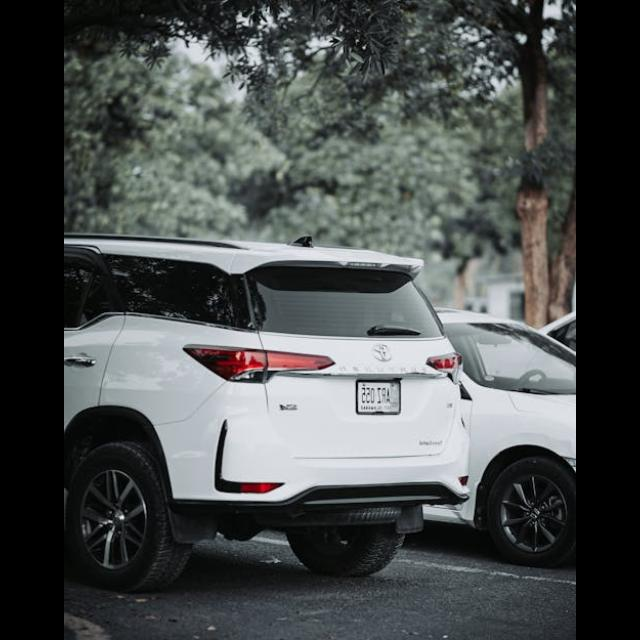number-plate: (358, 380, 403, 414)
vehicles: (69, 232, 470, 580), (424, 309, 577, 550)
